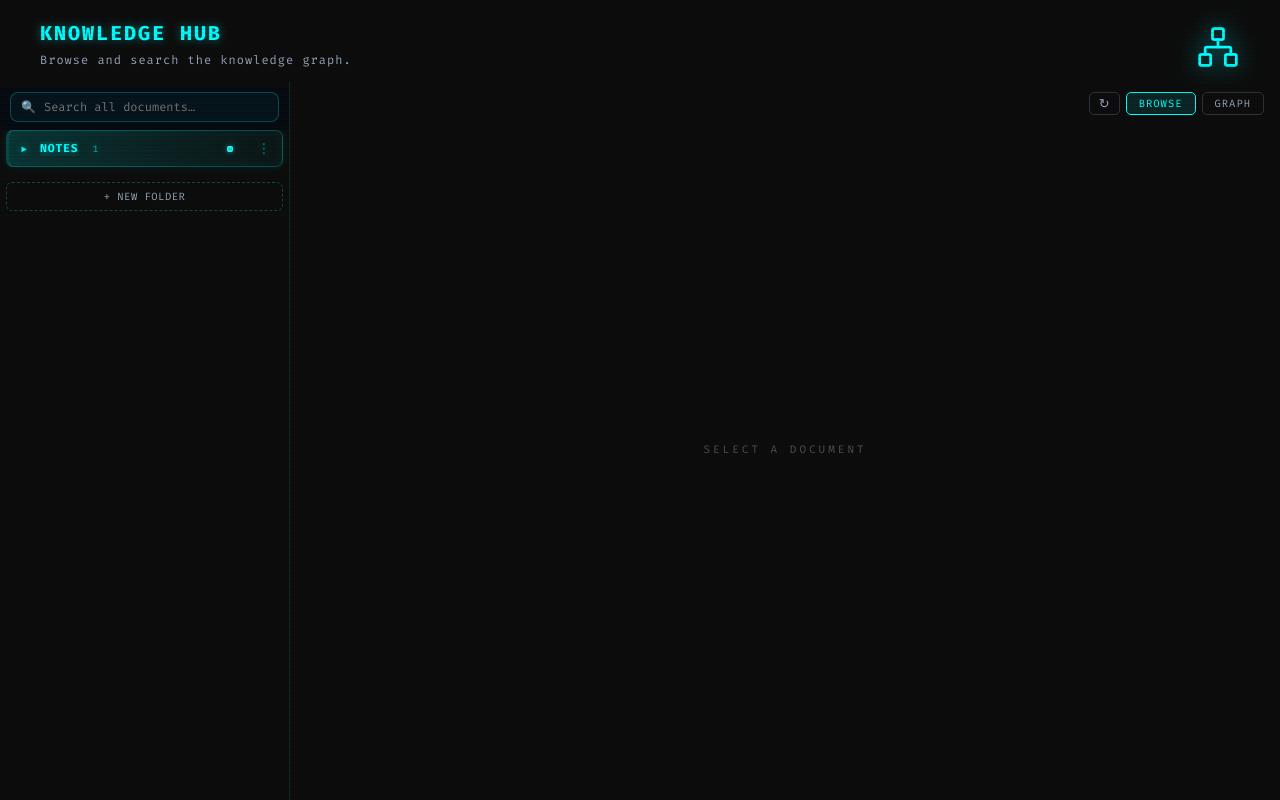
Test case: KnowledgeHub onFileSaved — rename flow › re-fetches the tree after a rename save
Later steps or results of the test are not shown.
Click the text "notes" at (59, 148), box x1=40 y1=141 x2=78 y2=156
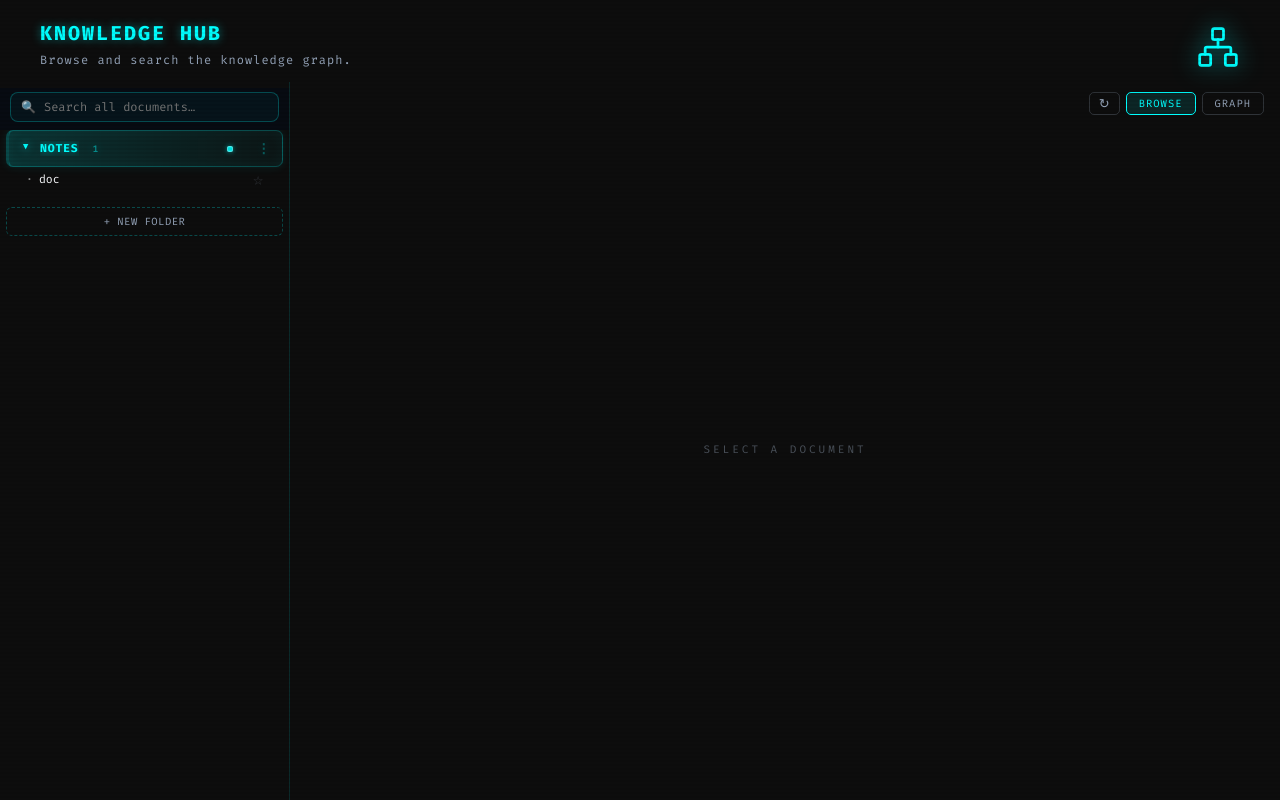
Now the text "doc" is shown
Click the text "doc" at (49, 180), box x1=39 y1=172 x2=60 y2=187
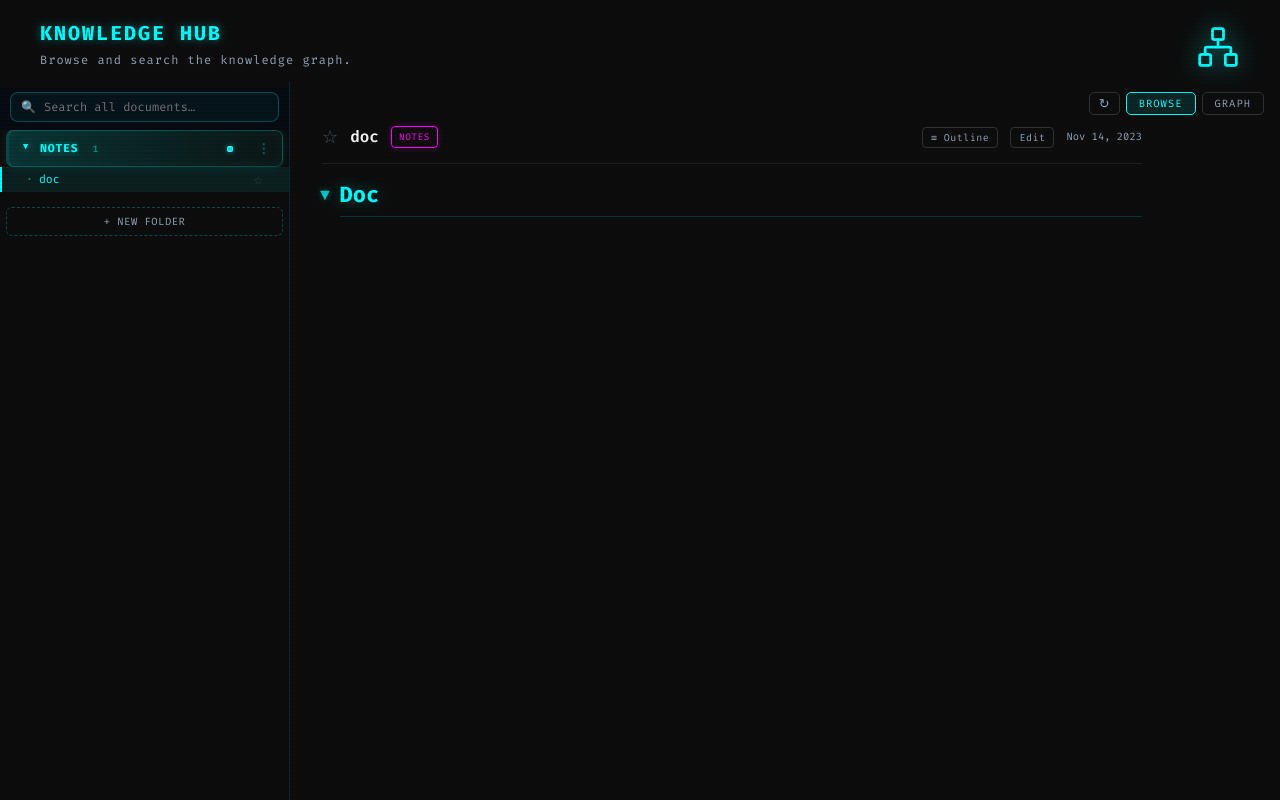
Now the button "Edit" is shown, box x1=1010 y1=126 x2=1054 y2=148
